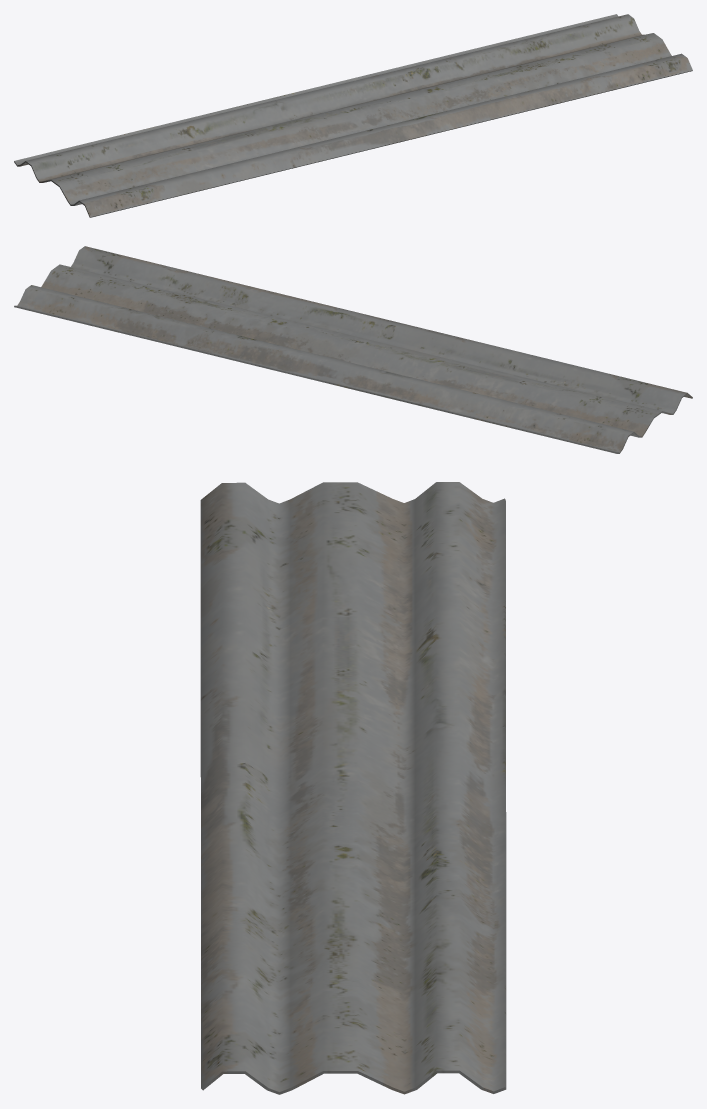
Rendered from Prop_MetalPlate_03.fbx.
3 views of the same model, one above another, from view 1: azimuth 30°, elevation 25°; view 2: azimuth 150°, elevation 25°; view 3: azimuth 270°, elevation 25° (orthographic). The views are drawn at different scales.
Visible parts, largest first — view 1: Prop_MetalPlate_03; view 2: Prop_MetalPlate_03; view 3: Prop_MetalPlate_03.
Boxes of the visible parts, x1=… form: Prop_MetalPlate_03: x1=14, y1=14, x2=692, y2=217; Prop_MetalPlate_03: x1=14, y1=246, x2=692, y2=453; Prop_MetalPlate_03: x1=200, y1=482, x2=506, y2=1094.
Size of the model in its own units: 110 by 2.16 by 24.23.
